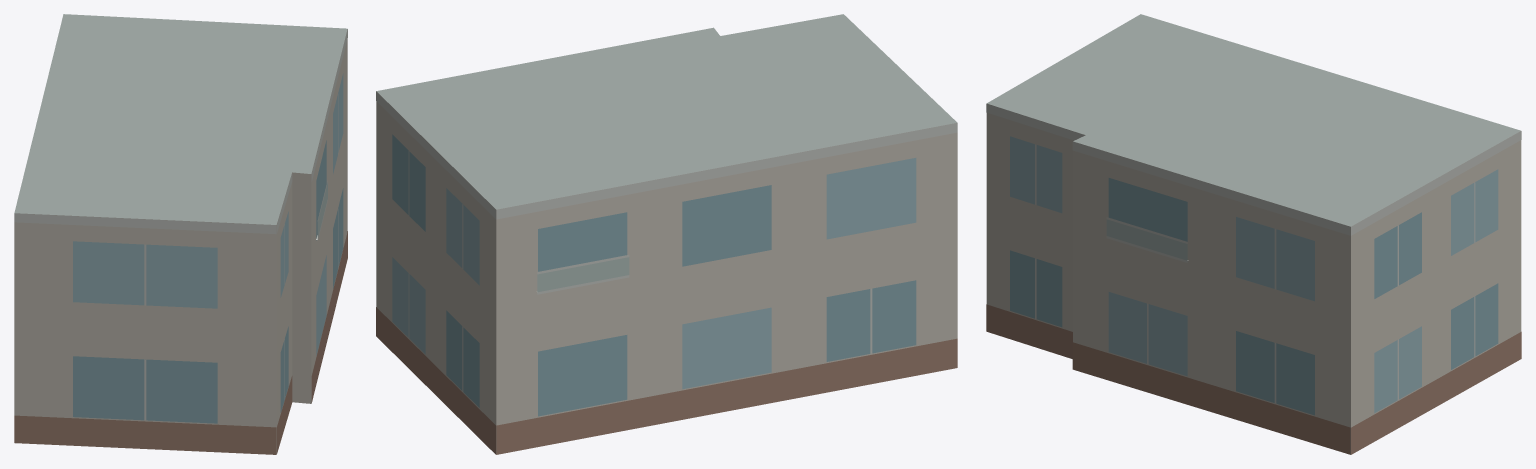
File: survey-upis-32968036.glb
3 views of the same model, side by side, from view 1: azimuth 30°, elevation 25°; view 2: azimuth 150°, elevation 25°; view 3: azimuth 270°, elevation 25° (orthographic). The views are drawn at different scales.
Visible parts, largest first — view 1: survey-upis-32968036.tmp; view 2: survey-upis-32968036.tmp; view 3: survey-upis-32968036.tmp.
Part boxes in pixels (bbox=[...]): survey-upis-32968036.tmp: bbox=[14, 14, 347, 454]; survey-upis-32968036.tmp: bbox=[376, 14, 957, 454]; survey-upis-32968036.tmp: bbox=[986, 14, 1521, 454].
Bounding box in the file's own units: 12.21 × 6.1 × 12.97.
